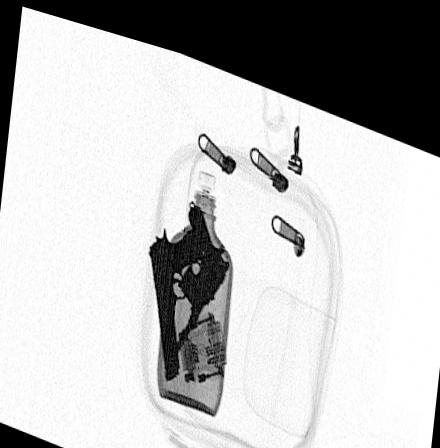Gun: (148, 216, 203, 372), (176, 193, 230, 340)
